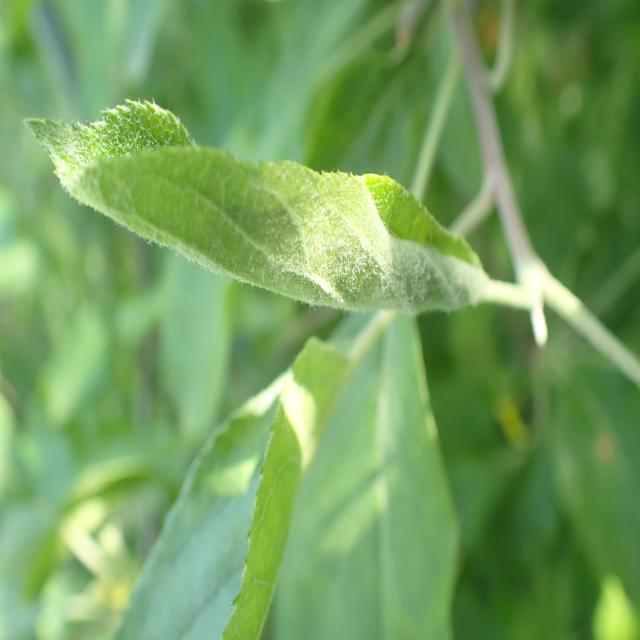Powdery_mildew: (15, 67, 490, 319)
